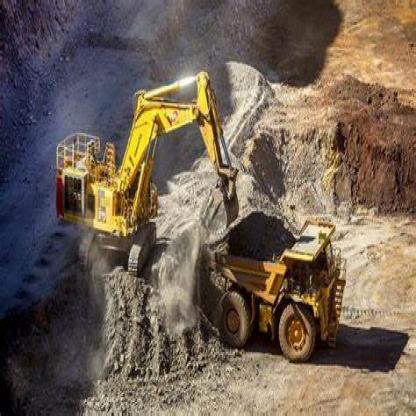dump_truck: (206, 213, 353, 380)
excavator: (52, 50, 243, 280)
